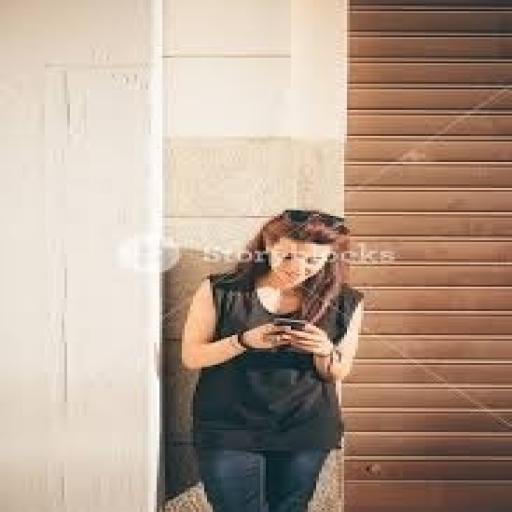texting: (176, 207, 367, 510)
